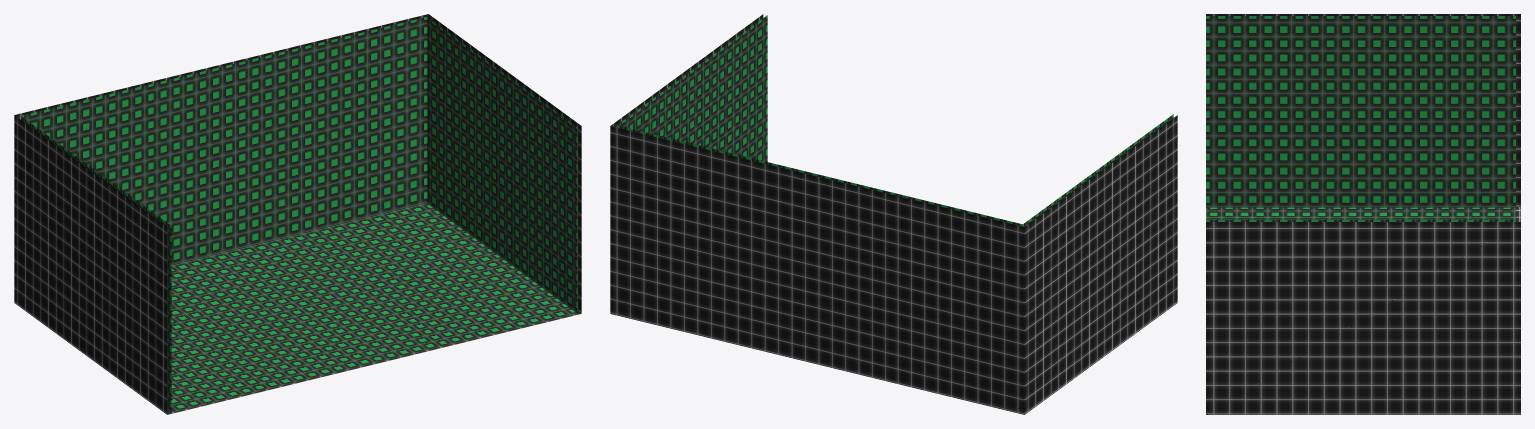
Rendered from TrainingStage_Background_1.fbx.
The picture shows the model from 3 angles, left to right: view 1: azimuth 30°, elevation 25°; view 2: azimuth 150°, elevation 25°; view 3: azimuth 270°, elevation 25°; orthographic projection. The views are drawn at different scales.
Visible parts, largest first — view 1: PolygonGrid_Glow, PolygonGrid; view 2: PolygonGrid, PolygonGrid_Glow; view 3: PolygonGrid_Glow, PolygonGrid.
Part boxes in pixels (<box>): PolygonGrid_Glow: <box>21,17,577,412</box>; PolygonGrid: <box>14,14,581,414</box>; PolygonGrid: <box>610,14,1177,414</box>; PolygonGrid_Glow: <box>617,15,1173,226</box>; PolygonGrid_Glow: <box>1206,16,1515,221</box>; PolygonGrid: <box>1206,14,1520,414</box>.
Bounding box in the file's own units: 2250 × 975 × 1440.
2 materials, 2 textured.
